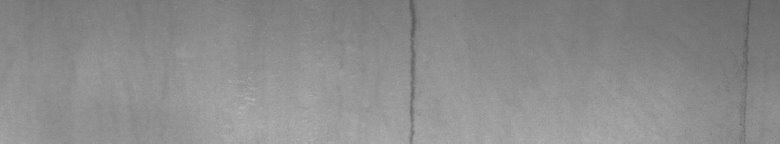hd: (406, 4, 420, 136)
